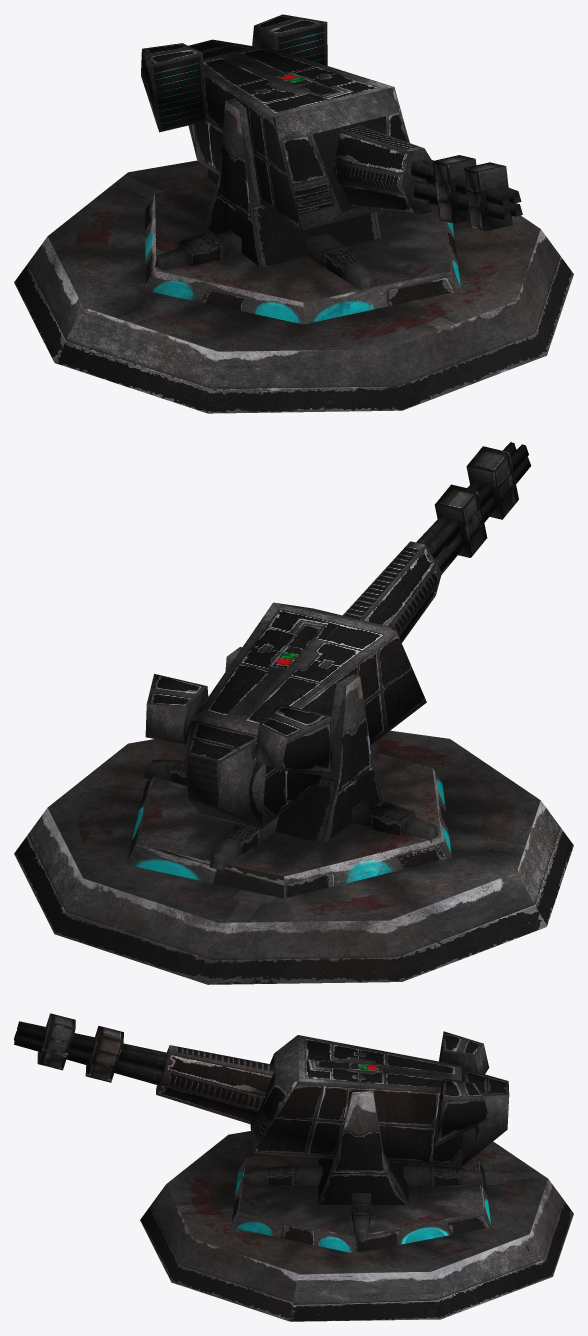
The model's file is canon_plasma_lod2.FBX.
3 renders of one model, top to bottom at view 1: azimuth 30°, elevation 25°; view 2: azimuth 150°, elevation 25°; view 3: azimuth 270°, elevation 25°, orthographic. The views are drawn at different scales.
Parts seen in each view (by area): view 1: Plasma_Base_lod2, Plasma_Rotate_lod2, LP_plasma_lod2, Plasma_Canon_lod2; view 2: Plasma_Base_lod2, LP_plasma_lod2, Plasma_Rotate_lod2, Plasma_Canon_lod2; view 3: Plasma_Base_lod2, LP_plasma_lod2, Plasma_Rotate_lod2, Plasma_Canon_lod2.
Boxes of the visible parts, bbox=[...] form: Plasma_Base_lod2: bbox=[14, 160, 573, 413]; Plasma_Rotate_lod2: bbox=[145, 98, 461, 324]; LP_plasma_lod2: bbox=[141, 14, 409, 230]; Plasma_Canon_lod2: bbox=[333, 125, 522, 230]; Plasma_Base_lod2: bbox=[14, 730, 573, 984]; LP_plasma_lod2: bbox=[145, 602, 426, 829]; Plasma_Rotate_lod2: bbox=[126, 647, 451, 898]; Plasma_Canon_lod2: bbox=[343, 442, 531, 642]; Plasma_Base_lod2: bbox=[140, 1131, 573, 1321]; LP_plasma_lod2: bbox=[250, 1031, 509, 1167]; Plasma_Rotate_lod2: bbox=[231, 1091, 491, 1253]; Plasma_Canon_lod2: bbox=[14, 1013, 273, 1124].
Bounding box in the file's own units: 2.29 × 1.26 × 2.99.
Materials: 4 (4 with a texture image).
